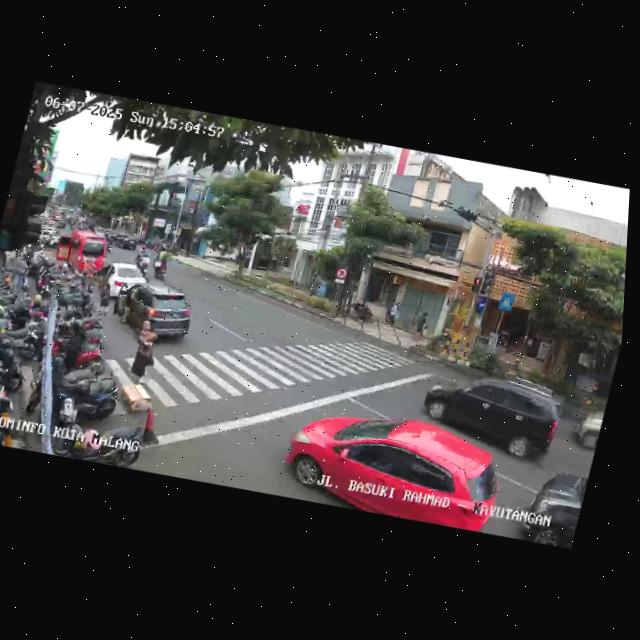car: (276, 397, 514, 536), (414, 357, 570, 468), (106, 278, 199, 347), (520, 460, 591, 549), (50, 225, 112, 281), (97, 259, 151, 306), (567, 397, 607, 456), (119, 233, 140, 252)
motorcycle: (133, 244, 156, 277), (152, 251, 172, 281)
person: (127, 316, 165, 391)
